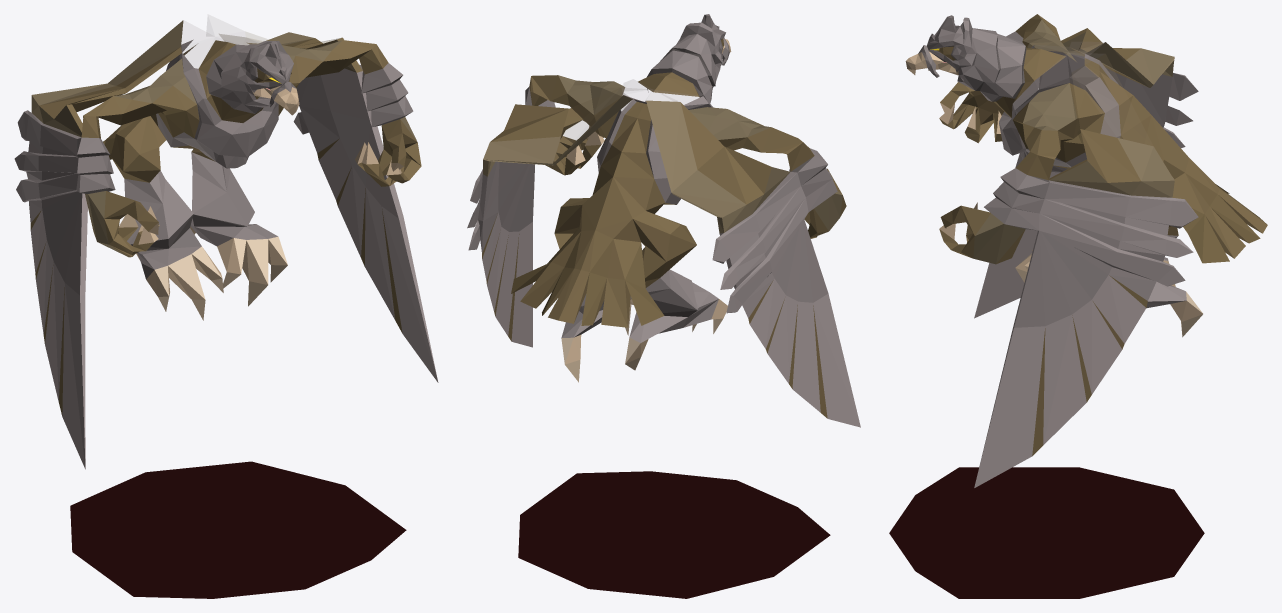
File: kree-arra.gltf
3 views of the same model, side by side, from view 1: azimuth 30°, elevation 25°; view 2: azimuth 150°, elevation 25°; view 3: azimuth 270°, elevation 25° (orthographic). The views are drawn at different scales.
Size of the model in its own units: 553 by 784 by 521.
2 materials, 2 textured.
